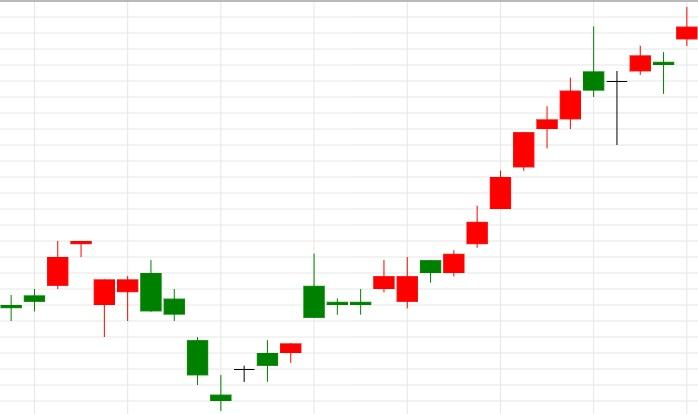shooting_star_fall: (396, 27, 605, 308)
